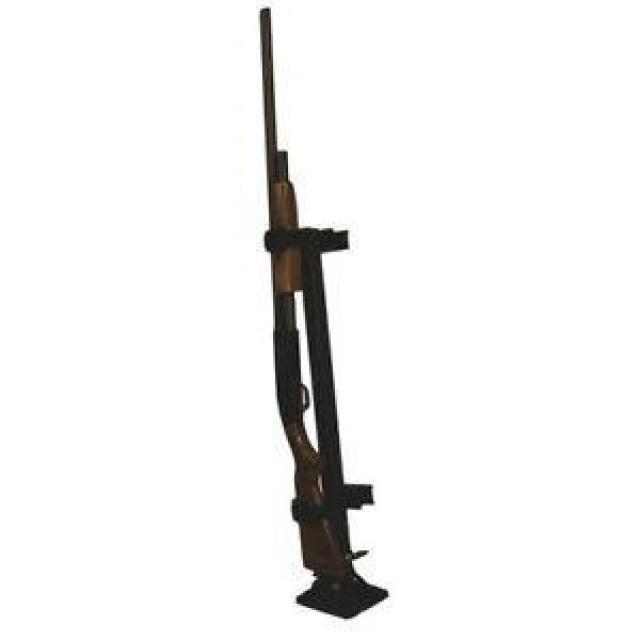weapon: (257, 5, 351, 573)
